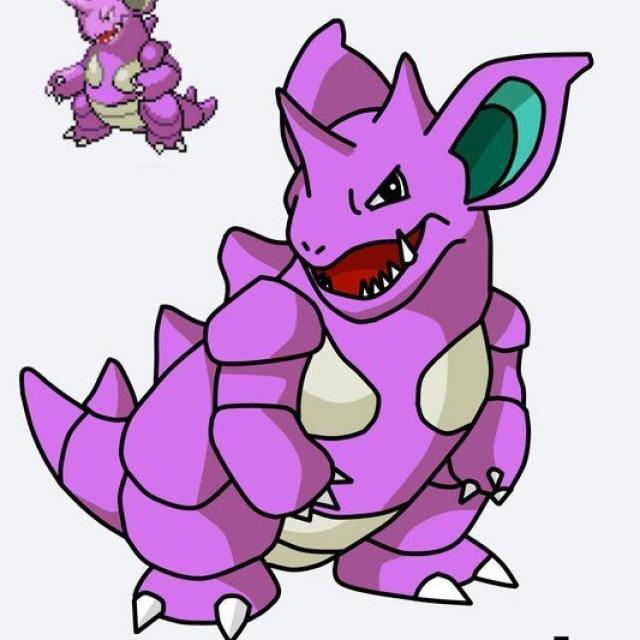Nidoking: (64, 39, 638, 640), (27, 0, 223, 162)
